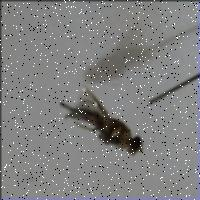Oriental-fruit-fly: (59, 83, 148, 162)
